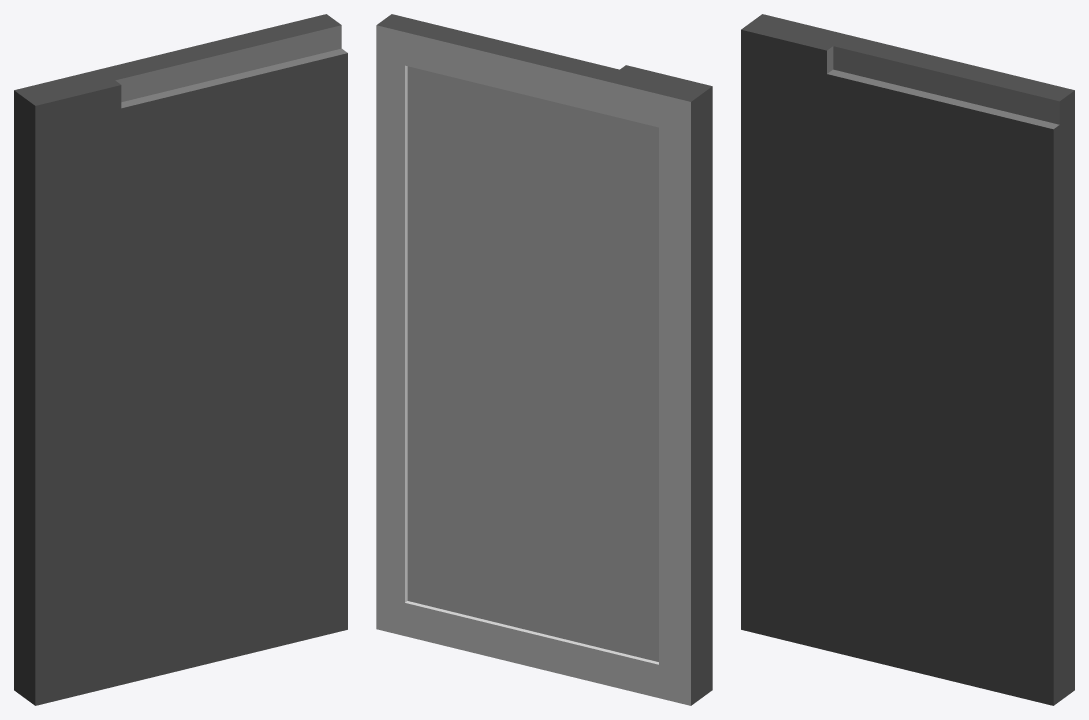
Rendered from Refrigerator3_C2_08.fbx.
The picture shows the model from 3 angles, left to right: view 1: azimuth 30°, elevation 25°; view 2: azimuth 150°, elevation 25°; view 3: azimuth 330°, elevation 25°; orthographic projection.
Parts seen in each view (by area): view 1: Refrigerator3_C2_08; view 2: Refrigerator3_C2_08; view 3: Refrigerator3_C2_08.
Part boxes in pixels (x1,y1,x2,y2): Refrigerator3_C2_08: [14, 14, 347, 705]; Refrigerator3_C2_08: [376, 14, 712, 705]; Refrigerator3_C2_08: [741, 14, 1074, 705].
Bounding box in the file's own units: 42.12 × 77.27 × 5.
